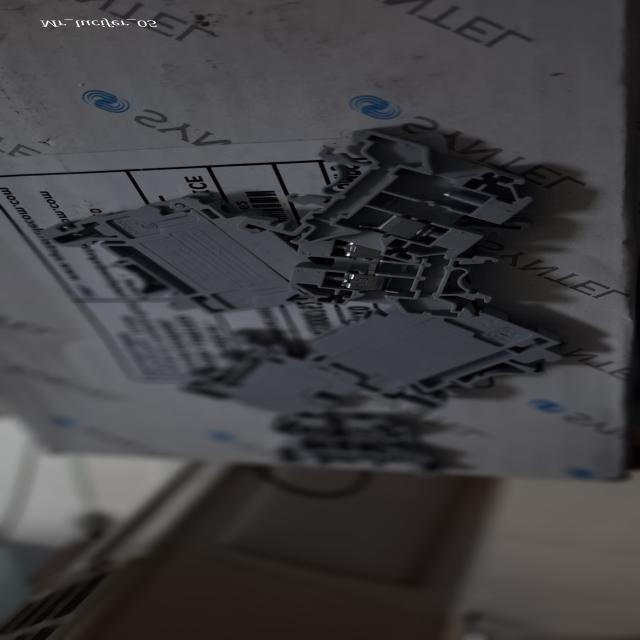Pass: (275, 238, 540, 320)
Reject: (292, 127, 568, 267)
